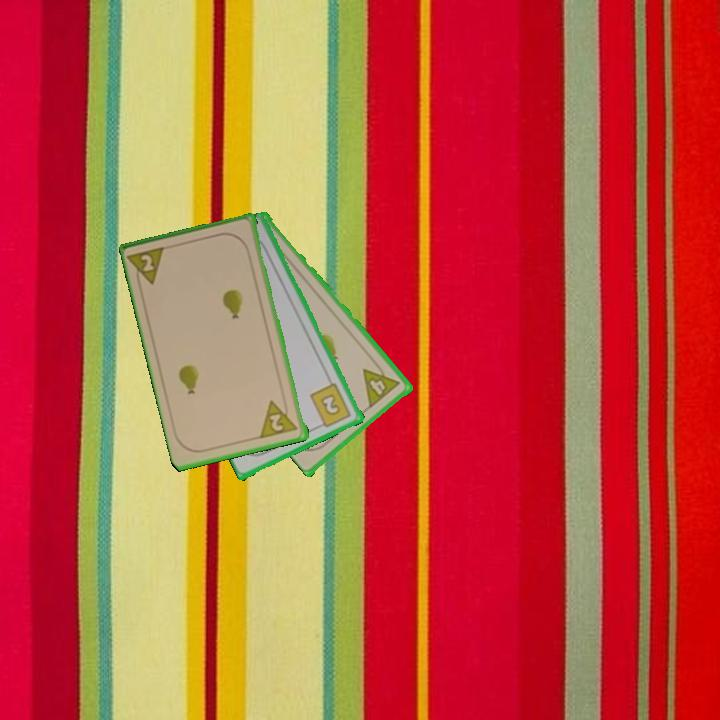2b: (307, 380, 354, 431)
2p: (126, 243, 170, 291), (258, 395, 301, 441)
4p: (359, 358, 403, 410)
